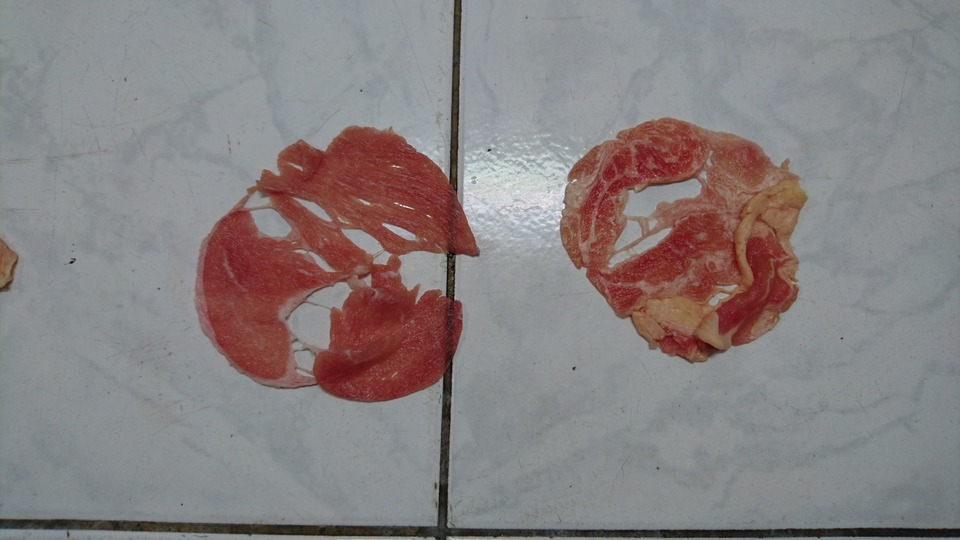restructured meat: (186, 103, 483, 423), (558, 117, 818, 362)
